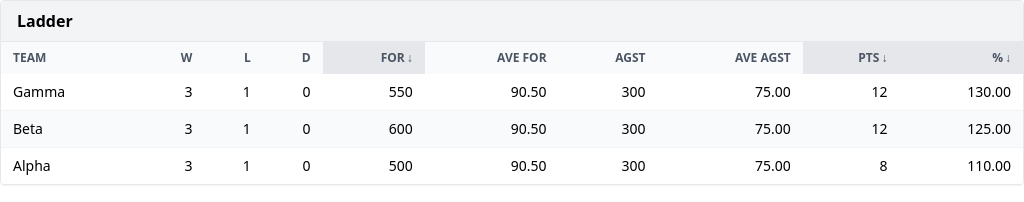
LadderTable › reset button restores default sort
What coordinates should you click on to do the following:
click the column heading "%↓"
I would click on:
 (961, 58)
Its box is [899,42,1023,74].
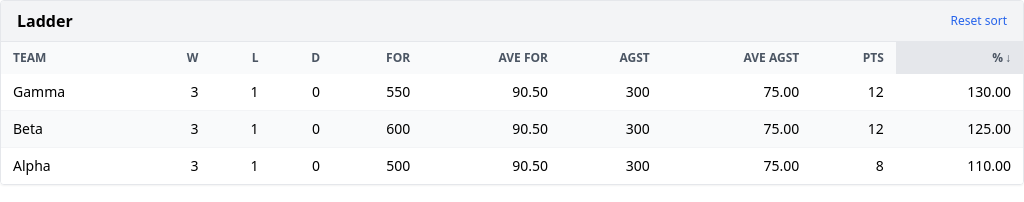
What coordinates should you click on to do the following:
click the button "Reset sort"
I would click on:
 (979, 21)
Its box is [950,13,1007,29].
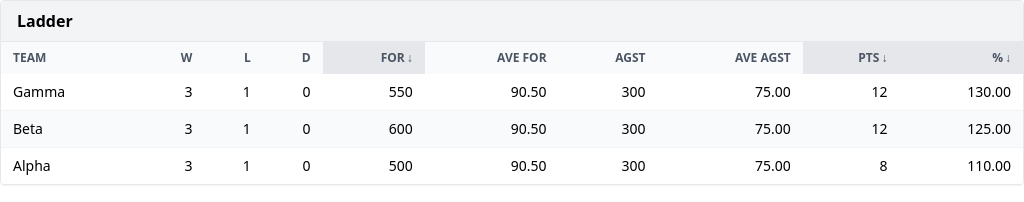
Expected: the row "Gamma 3 1 0 550 90.50 300 75.00 12 130.00" is shown, [1,74,1023,110]
Now the button "Reset sort" is gone
